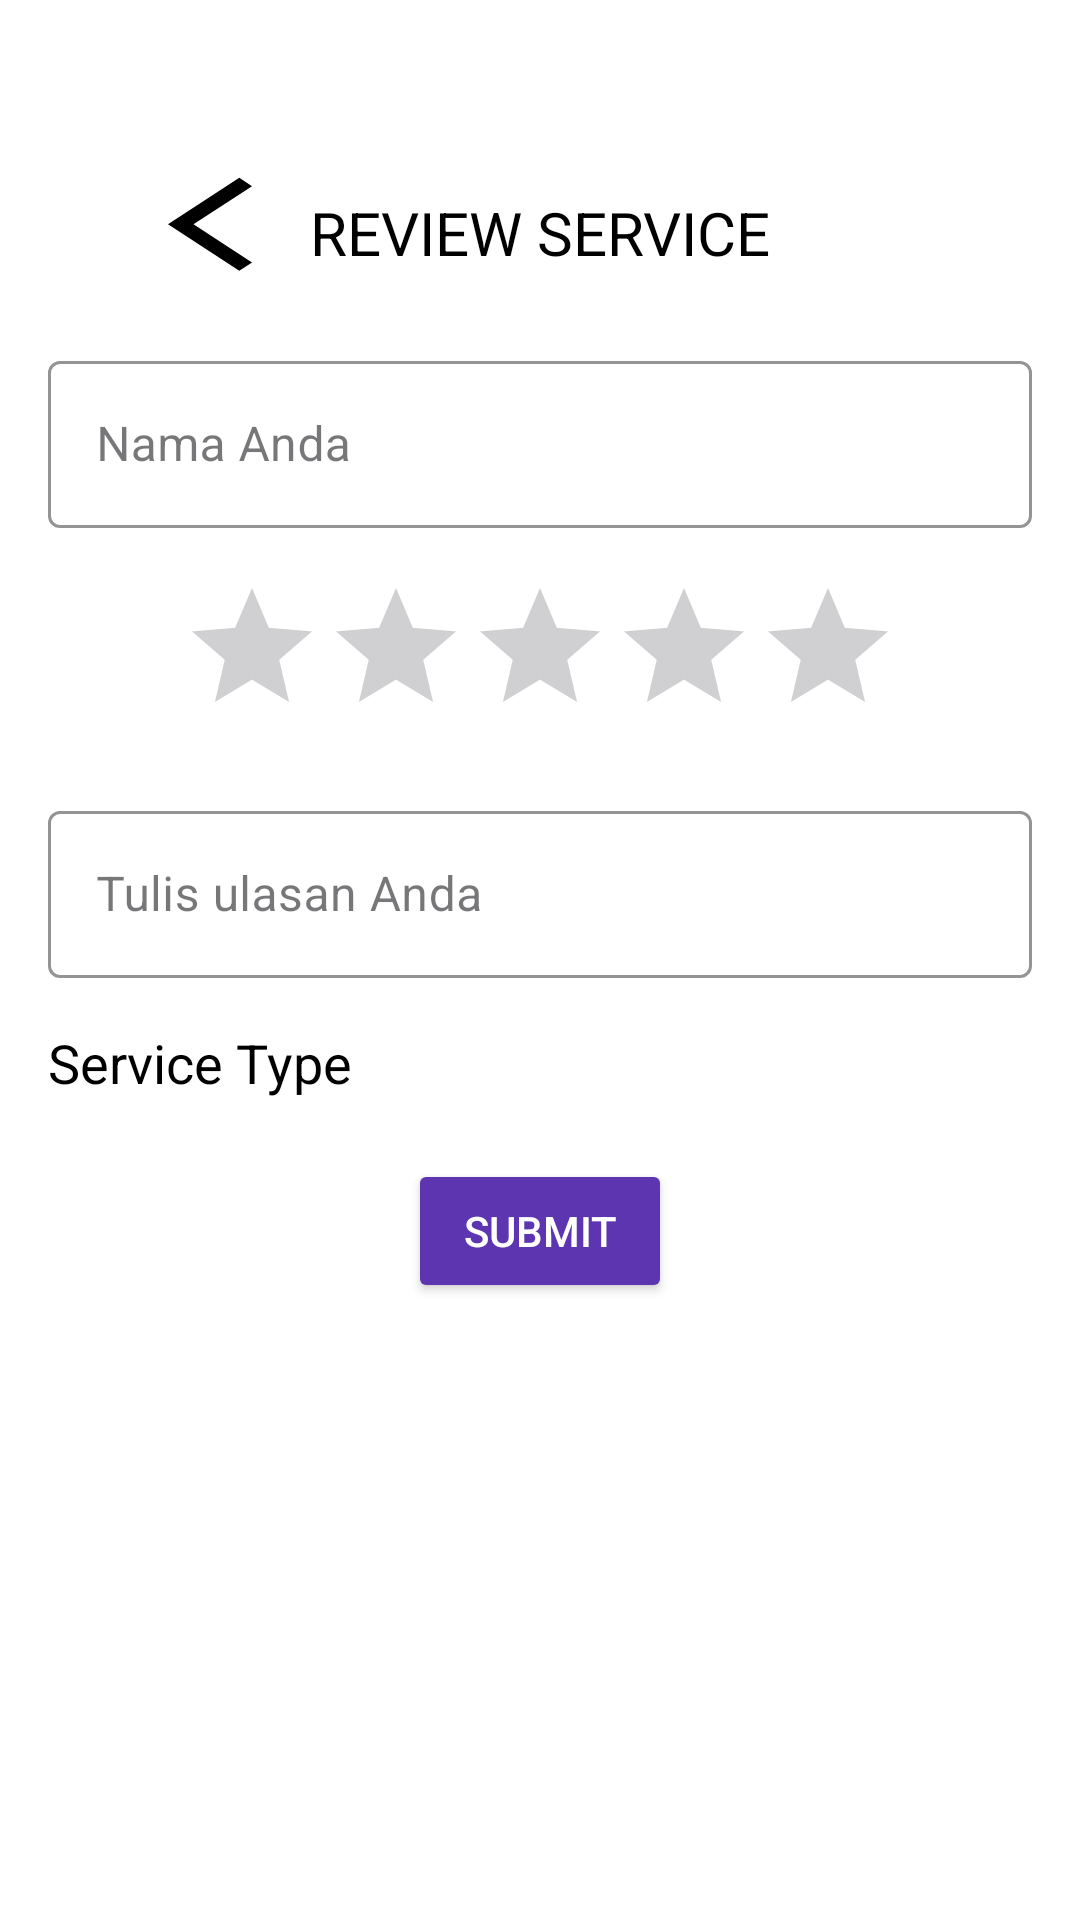

Named icons in this screenshot (1080 x 1920) and their bounding boxes, bbox(x1, y1, x2, y2):
back button: bbox(168, 177, 252, 271)
